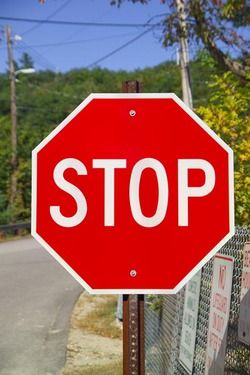stopsign: (30, 91, 233, 293)
